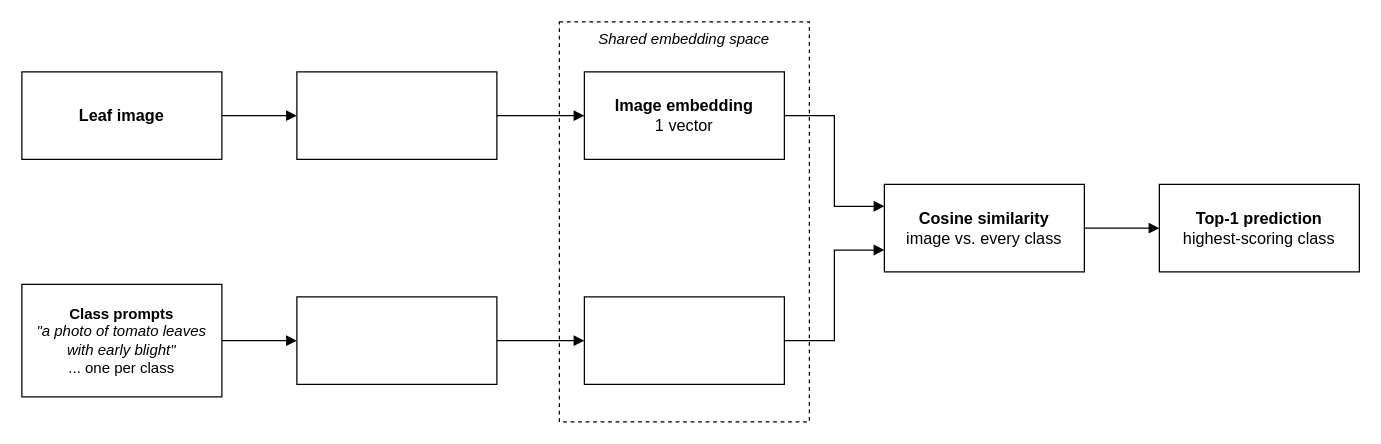
Some shapes in this 1381 by 444 pixel diagram are drawn without their labels. Here are the shapes that lost their labels. From the top down, the centre of each, then its label:
(396,115): Image encoder ViT-B/16
(396,340): Text encoder Transformer
(683,340): Text embeddings 1 vector per class
